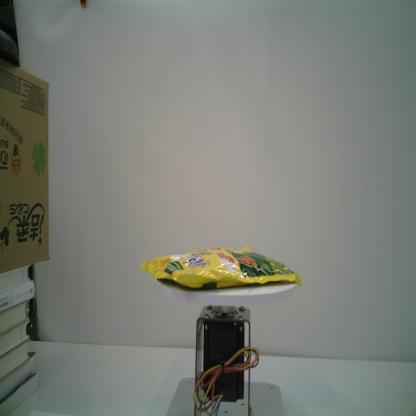Seasoner: (140, 246, 302, 290)
